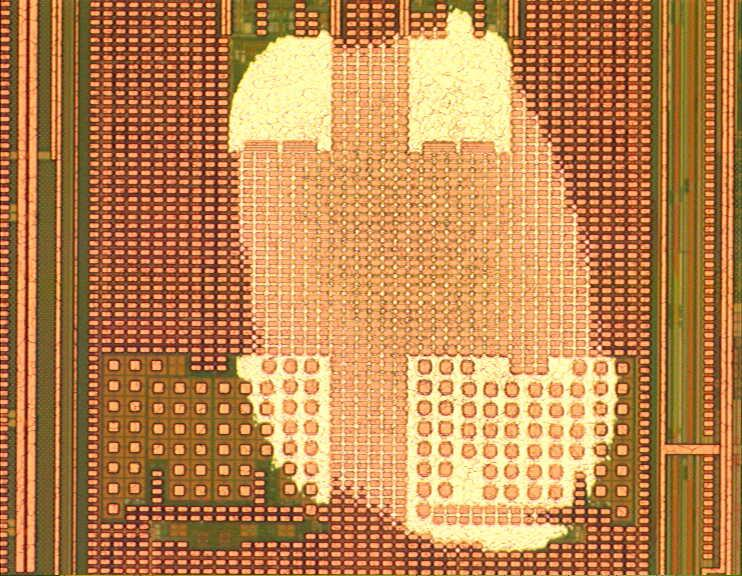BLOCK ETCH: (221, 3, 629, 563)
